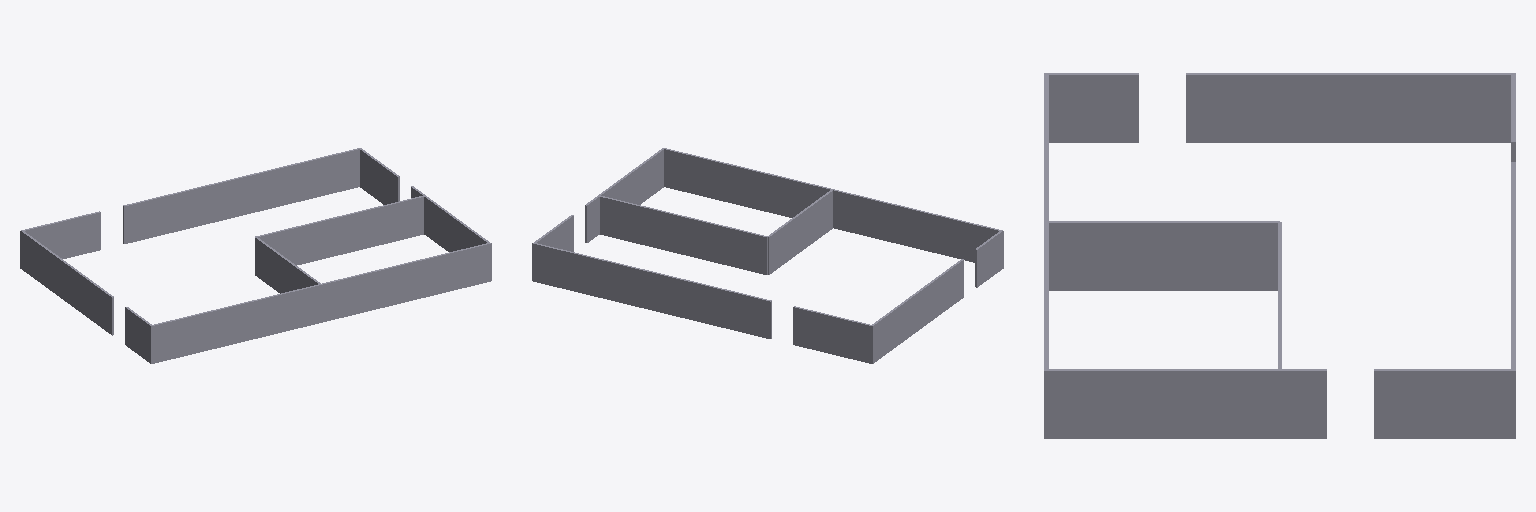
The robot description file, URDF, robot "placeholder_building":
<?xml version="1.0" ?>
<robot name="placeholder_building">
  <link name="base">
    <inertial>
      <mass value="0.0"/>
      <inertia ixx="0" ixy="0" ixz="0" iyy="0" iyz="0" izz="0"/>
    </inertial>
    <collision>
      <origin xyz="3.5 19.9 1.6" rpy="0 0 0"/>
      <geometry><box size="7.0 0.2 3.2"/></geometry>
    </collision>
    <visual>
      <origin xyz="3.5 19.9 1.6" rpy="0 0 0"/>
      <geometry><box size="7.0 0.2 3.2"/></geometry>
      <material name="wall_0">
        <color rgba="0.65 0.65 0.7 0.6"/>
      </material>
    </visual>
    <collision>
      <origin xyz="19.5 19.9 1.6" rpy="0 0 0"/>
      <geometry><box size="21.0 0.2 3.2"/></geometry>
    </collision>
    <visual>
      <origin xyz="19.5 19.9 1.6" rpy="0 0 0"/>
      <geometry><box size="21.0 0.2 3.2"/></geometry>
      <material name="wall_1">
        <color rgba="0.65 0.65 0.7 0.6"/>
      </material>
    </visual>
    <collision>
      <origin xyz="15.0 0.1 1.6" rpy="0 0 0"/>
      <geometry><box size="30.0 0.2 3.2"/></geometry>
    </collision>
    <visual>
      <origin xyz="15.0 0.1 1.6" rpy="0 0 0"/>
      <geometry><box size="30.0 0.2 3.2"/></geometry>
      <material name="wall_2">
        <color rgba="0.65 0.65 0.7 0.6"/>
      </material>
    </visual>
    <collision>
      <origin xyz="0.1 2.0 1.6" rpy="0 0 0"/>
      <geometry><box size="0.2 4.0 3.2"/></geometry>
    </collision>
    <visual>
      <origin xyz="0.1 2.0 1.6" rpy="0 0 0"/>
      <geometry><box size="0.2 4.0 3.2"/></geometry>
      <material name="wall_3">
        <color rgba="0.65 0.65 0.7 0.6"/>
      </material>
    </visual>
    <collision>
      <origin xyz="0.1 13.0 1.6" rpy="0 0 0"/>
      <geometry><box size="0.2 14.0 3.2"/></geometry>
    </collision>
    <visual>
      <origin xyz="0.1 13.0 1.6" rpy="0 0 0"/>
      <geometry><box size="0.2 14.0 3.2"/></geometry>
      <material name="wall_4">
        <color rgba="0.65 0.65 0.7 0.6"/>
      </material>
    </visual>
    <collision>
      <origin xyz="29.9 6.0 1.6" rpy="0 0 0"/>
      <geometry><box size="0.2 12.0 3.2"/></geometry>
    </collision>
    <visual>
      <origin xyz="29.9 6.0 1.6" rpy="0 0 0"/>
      <geometry><box size="0.2 12.0 3.2"/></geometry>
      <material name="wall_5">
        <color rgba="0.65 0.65 0.7 0.6"/>
      </material>
    </visual>
    <collision>
      <origin xyz="29.9 17.0 1.6" rpy="0 0 0"/>
      <geometry><box size="0.2 6.0 3.2"/></geometry>
    </collision>
    <visual>
      <origin xyz="29.9 17.0 1.6" rpy="0 0 0"/>
      <geometry><box size="0.2 6.0 3.2"/></geometry>
      <material name="wall_6">
        <color rgba="0.65 0.65 0.7 0.6"/>
      </material>
    </visual>
    <collision>
      <origin xyz="15.0 5.0 1.6" rpy="0 0 0"/>
      <geometry><box size="0.2 10.0 3.2"/></geometry>
    </collision>
    <visual>
      <origin xyz="15.0 5.0 1.6" rpy="0 0 0"/>
      <geometry><box size="0.2 10.0 3.2"/></geometry>
      <material name="wall_7">
        <color rgba="0.65 0.65 0.7 0.6"/>
      </material>
    </visual>
    <collision>
      <origin xyz="22.5 10.0 1.6" rpy="0 0 0"/>
      <geometry><box size="15.0 0.2 3.2"/></geometry>
    </collision>
    <visual>
      <origin xyz="22.5 10.0 1.6" rpy="0 0 0"/>
      <geometry><box size="15.0 0.2 3.2"/></geometry>
      <material name="wall_8">
        <color rgba="0.65 0.65 0.7 0.6"/>
      </material>
    </visual>
  </link>
</robot>

--- What the picture shows (computed from the rendered views, not written in the file) ---
Views: 3 orthographic renders of the robot side by side, from view 1: azimuth 30°, elevation 25°; view 2: azimuth 150°, elevation 25°; view 3: azimuth 270°, elevation 25°.
Model placeholder_building with 1 links and 0 joints (none), rooted at base, posed all joints at 0.
Visible links, largest first — view 1: base; view 2: base; view 3: base.
Link boxes in pixels (x1,y1,x2,y2): base: [20, 148, 491, 363]; base: [532, 148, 1003, 363]; base: [1044, 73, 1515, 438].
Bounding box of the posed robot: 30 × 20 × 3.2 m (x, y, z).
Geometry: primitives only (box / cylinder / sphere), no mesh files.
